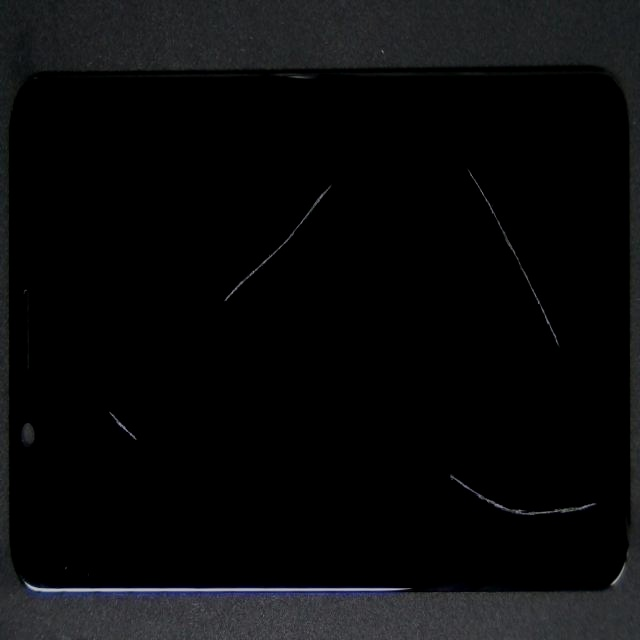scratch: (303, 272, 640, 640), (214, 15, 423, 309), (339, 263, 640, 405)
